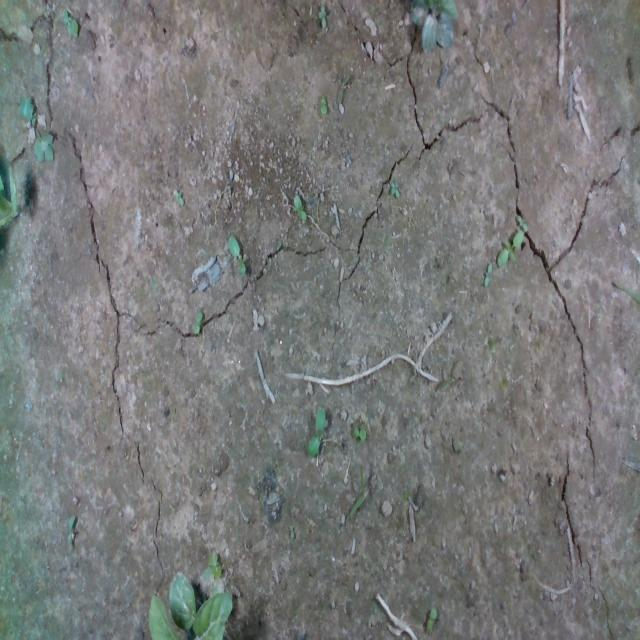weed: (224, 232, 256, 280), (310, 404, 330, 460), (188, 304, 212, 346), (292, 193, 312, 225), (349, 414, 368, 438), (386, 176, 404, 200), (483, 258, 495, 290), (316, 92, 331, 115), (174, 188, 186, 214)
